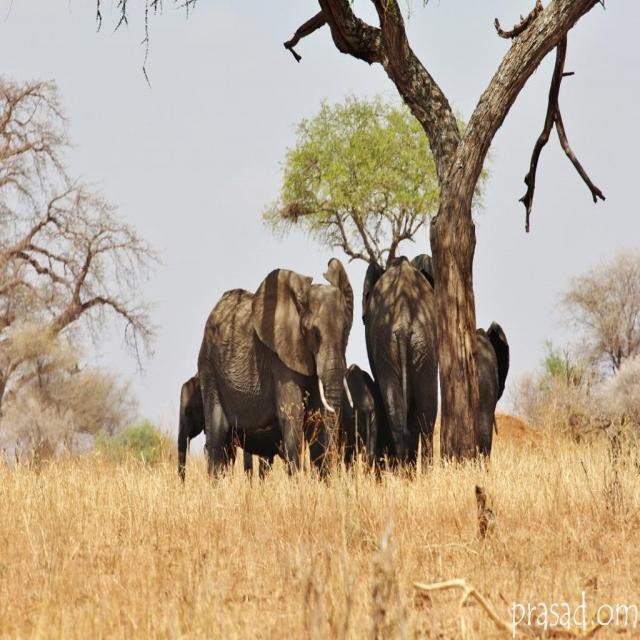elephant: (175, 262, 364, 486), (366, 260, 454, 480), (172, 370, 284, 483), (464, 314, 508, 450), (334, 358, 384, 473)
